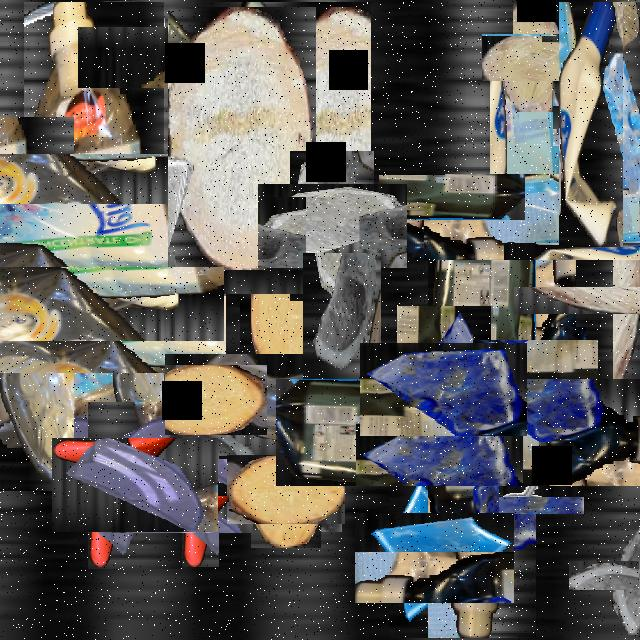glass: (70, 420, 200, 551), (379, 324, 509, 455), (372, 496, 496, 620), (274, 168, 391, 284), (303, 253, 381, 391), (576, 82, 640, 169), (589, 540, 640, 611)
metal: (90, 14, 176, 100), (509, 457, 575, 524)
plastic: (0, 77, 240, 370), (352, 302, 612, 562), (0, 201, 188, 410), (434, 118, 632, 316), (0, 192, 149, 415), (202, 317, 380, 494), (215, 2, 371, 183), (559, 2, 623, 247), (480, 333, 592, 446), (128, 442, 236, 550)
wood: (168, 7, 316, 270), (563, 236, 640, 364), (239, 442, 333, 536), (498, 18, 576, 96), (616, 2, 640, 194)
